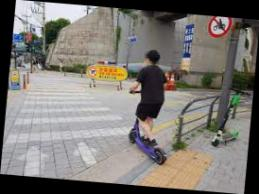nonhelmet: (122, 47, 178, 167)
